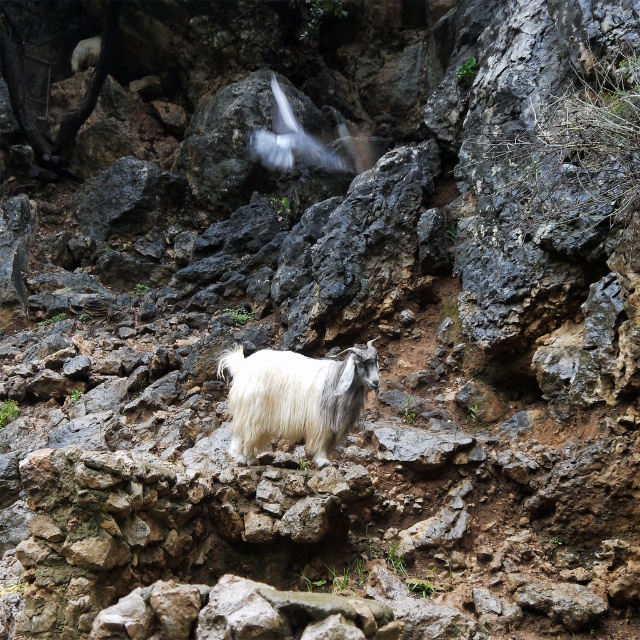Goat: (216, 336, 380, 473)
